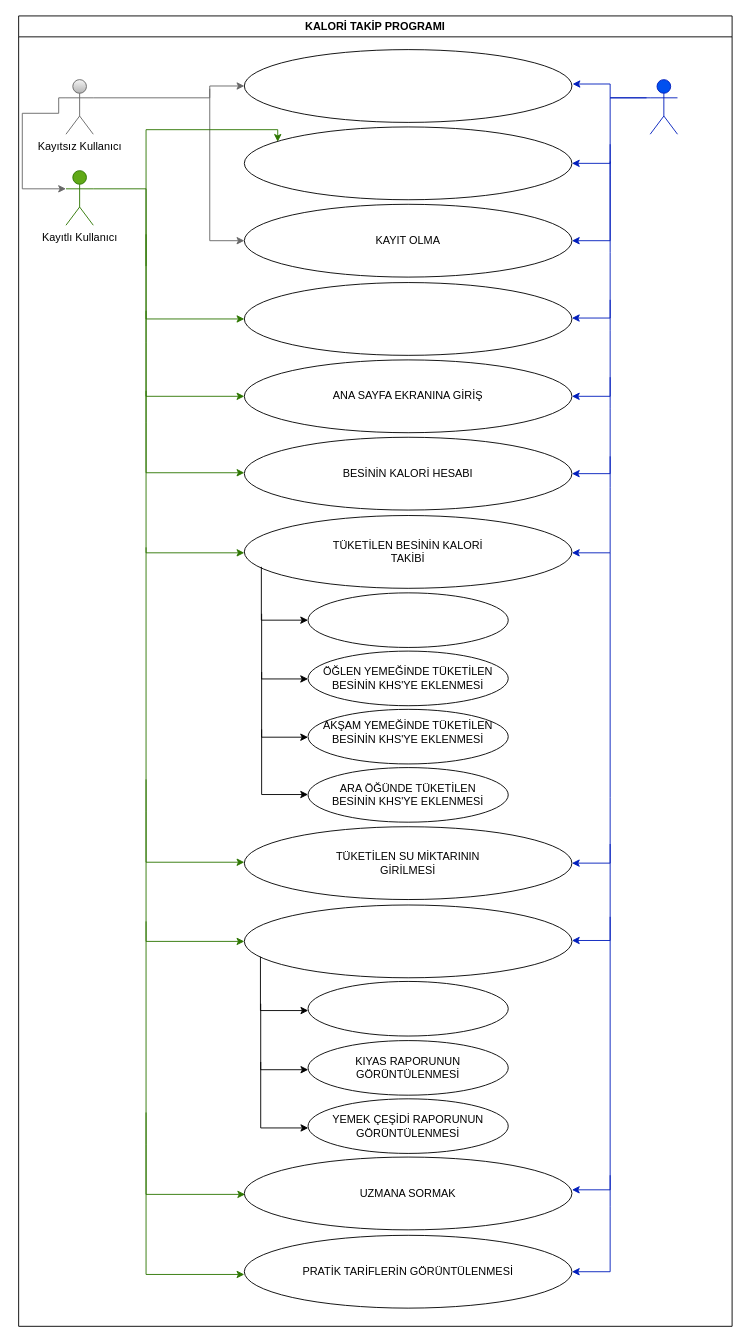
The diagram is 748 pixels wide and 1342 high, and some of its shapes have lost their labels. The centre of each missing label's shape, as x and y in pixels:
"Admin" belongs at point (663, 106).
"GİRİŞ EKRANININ GÖRÜNTÜLENMESİ" belongs at point (407, 85).
"GÜN SONU RAPORUNUN GÖRÜNTÜLENMESİ" belongs at point (407, 1008).
"KAHVALTIDA TÜKETİLEN BESİNİN KHS'YE EKLENMESİ" belongs at point (407, 619).
"KAYITLI KULLANICI GİRİŞİ" belongs at point (407, 318).
"RAPORLARIN GÖRÜNTÜLENMESİ" belongs at point (407, 941).
"VÜCUT KİTLE ENDEKSİNİN HESAPLANMASI" belongs at point (407, 163).
